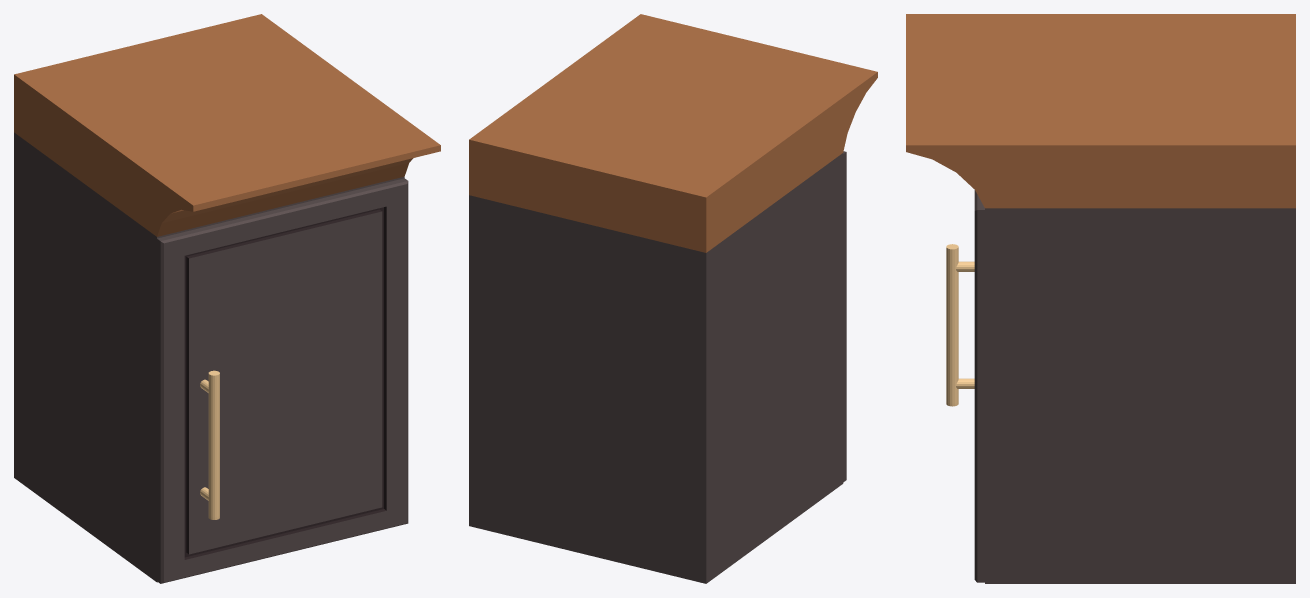
File: Prop_KitchenCabinet_02_E.fbx
The picture shows the model from 3 angles, left to right: view 1: azimuth 30°, elevation 25°; view 2: azimuth 150°, elevation 25°; view 3: azimuth 270°, elevation 25°; orthographic projection. The views are drawn at different scales.
Parts seen in each view (by area): view 1: Prop_KitchenCabinet_02_E; view 2: Prop_KitchenCabinet_02_E; view 3: Prop_KitchenCabinet_02_E.
Boxes of the visible parts, bbox=[...] form: Prop_KitchenCabinet_02_E: bbox=[14, 14, 440, 583]; Prop_KitchenCabinet_02_E: bbox=[469, 14, 877, 583]; Prop_KitchenCabinet_02_E: bbox=[906, 14, 1295, 583].
Bounding box in the file's own units: 60 × 93.41 × 75.21.
